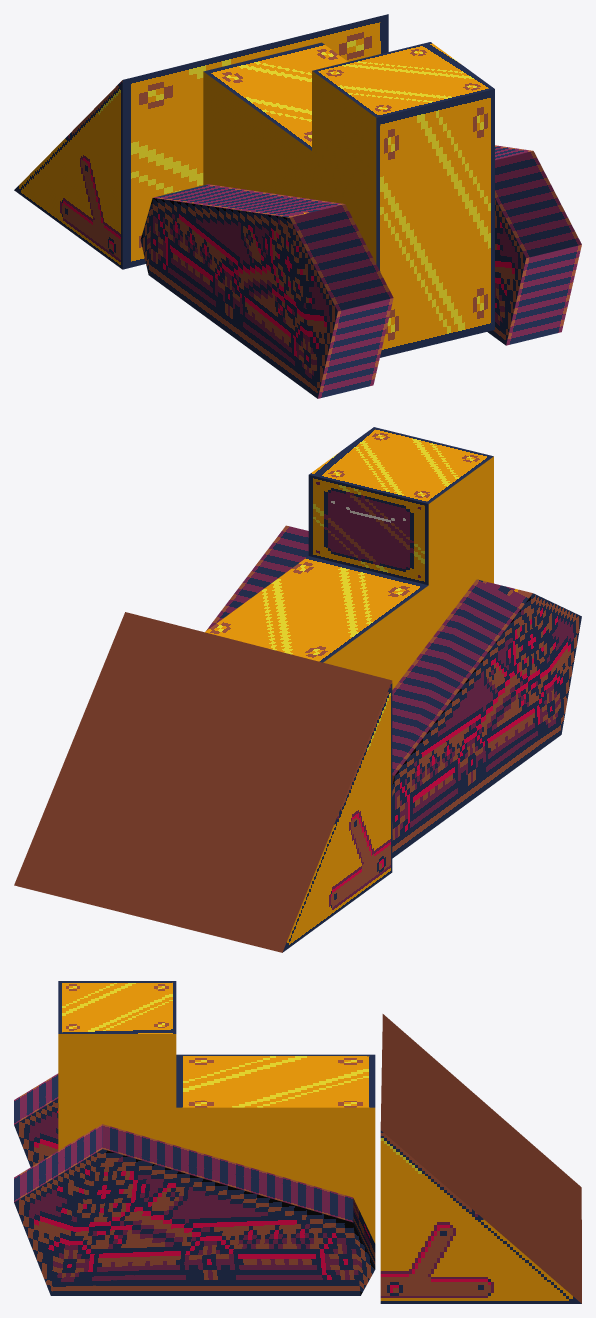
Rendered from killdozer.glb.
3 views of the same model, one above another, from view 1: azimuth 30°, elevation 25°; view 2: azimuth 150°, elevation 25°; view 3: azimuth 270°, elevation 25° (orthographic). The views are drawn at different scales.
Visible parts, largest first — view 1: killdozer; view 2: killdozer; view 3: killdozer.
Part boxes in pixels (left/top/right/bottom): killdozer: left=14, top=14, right=581, bottom=398; killdozer: left=14, top=427, right=581, bottom=952; killdozer: left=14, top=981, right=581, bottom=1303.
Bounding box in the file's own units: 9.5 × 9 × 19.25.
1 material, 1 textured.
